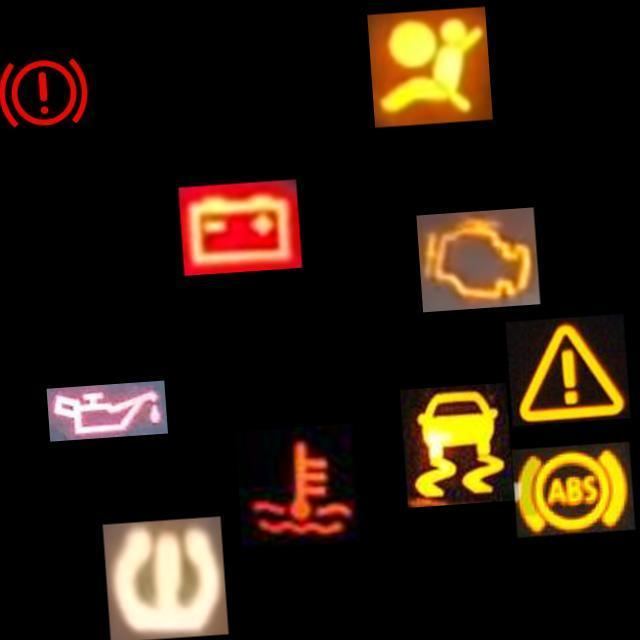Central Warning lamp: (505, 314, 630, 426)
Engine cooling system: (234, 423, 360, 549)
